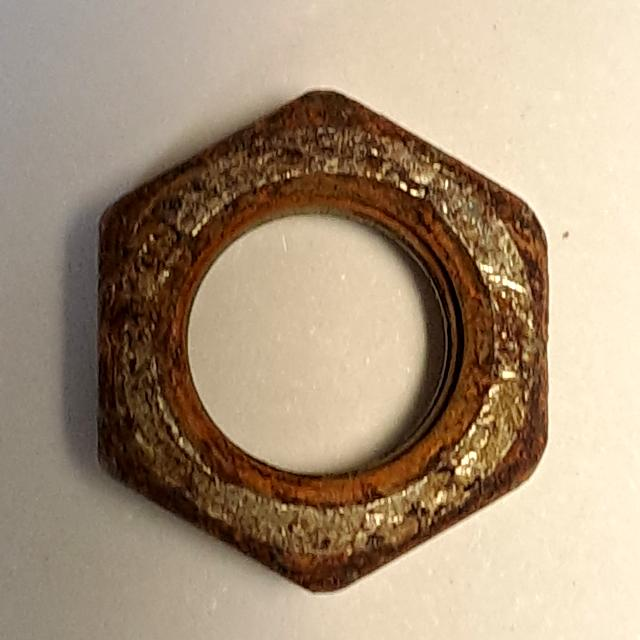Rust: (79, 74, 560, 606)
